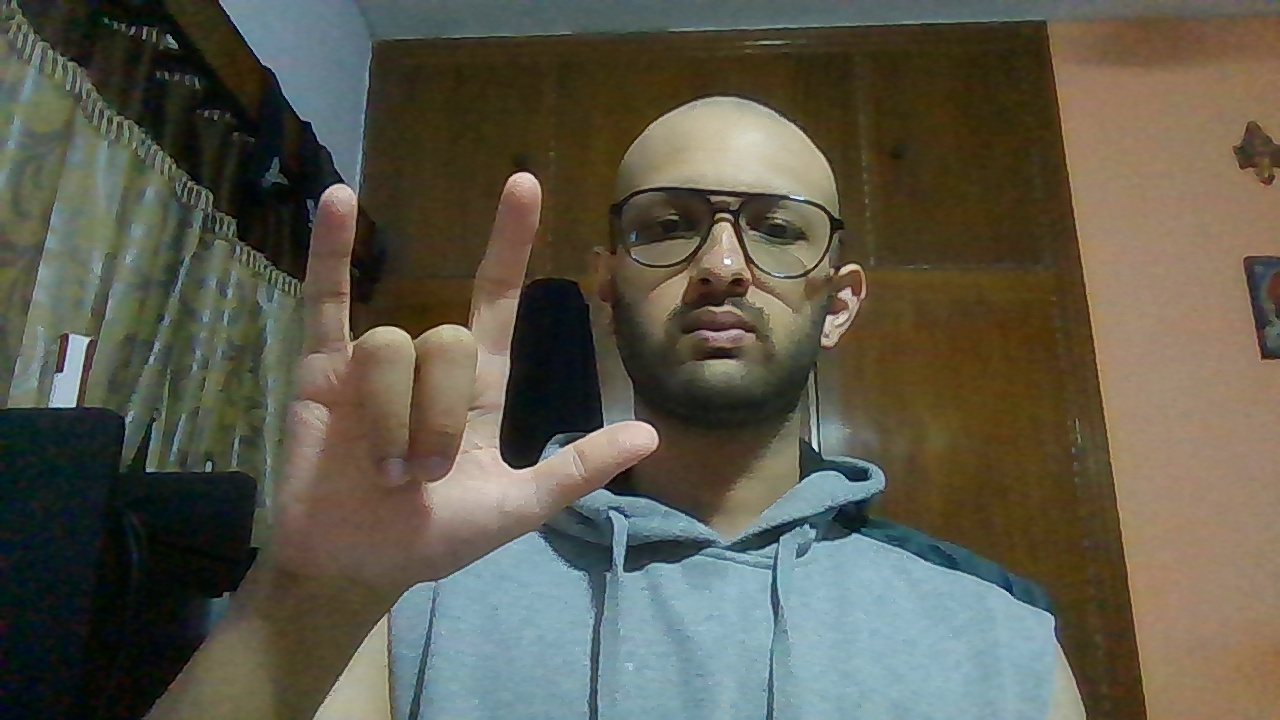I Love You: (264, 172, 665, 609)
